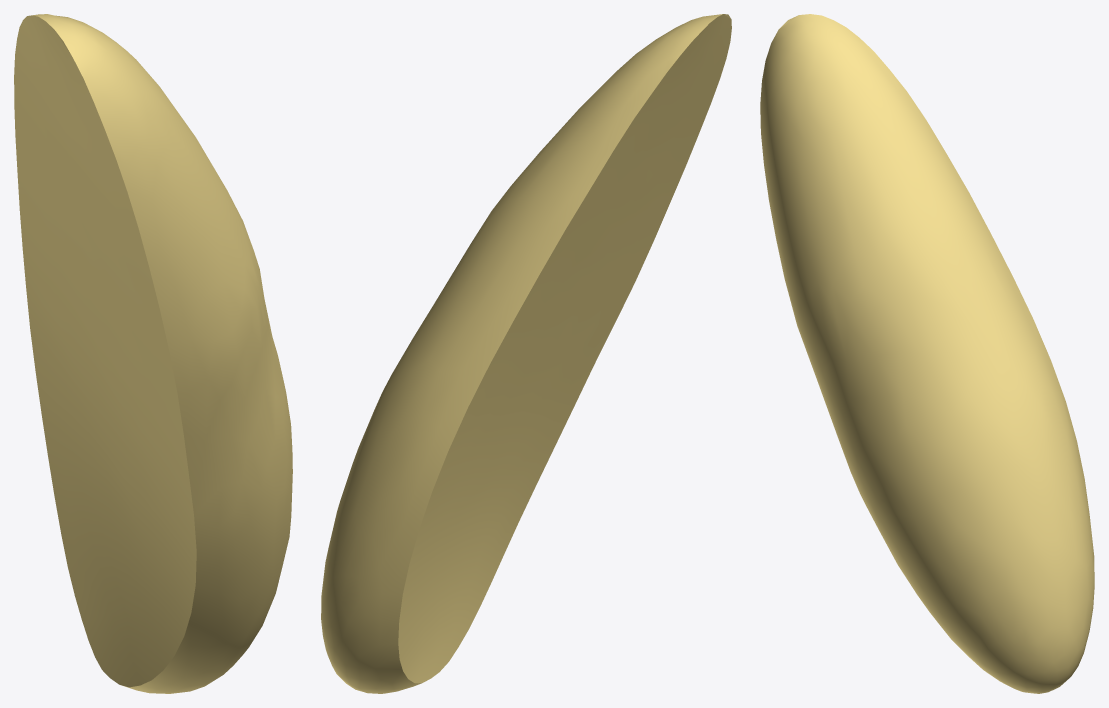
File: fma73807_mm3524m.glb
3 renders of one model, left to right at view 1: azimuth 30°, elevation 25°; view 2: azimuth 150°, elevation 25°; view 3: azimuth 270°, elevation 25°, orthographic. The views are drawn at different scales.
Parts seen in each view (by area): view 1: FMA73807_MM3524M; view 2: FMA73807_MM3524M; view 3: FMA73807_MM3524M.
Boxes of the visible parts, x1=… form: FMA73807_MM3524M: x1=14, y1=14, x2=292, y2=693; FMA73807_MM3524M: x1=321, y1=14, x2=731, y2=693; FMA73807_MM3524M: x1=760, y1=14, x2=1094, y2=693.
Size of the model in its own units: 0.00459 by 0.0103 by 0.00538.
